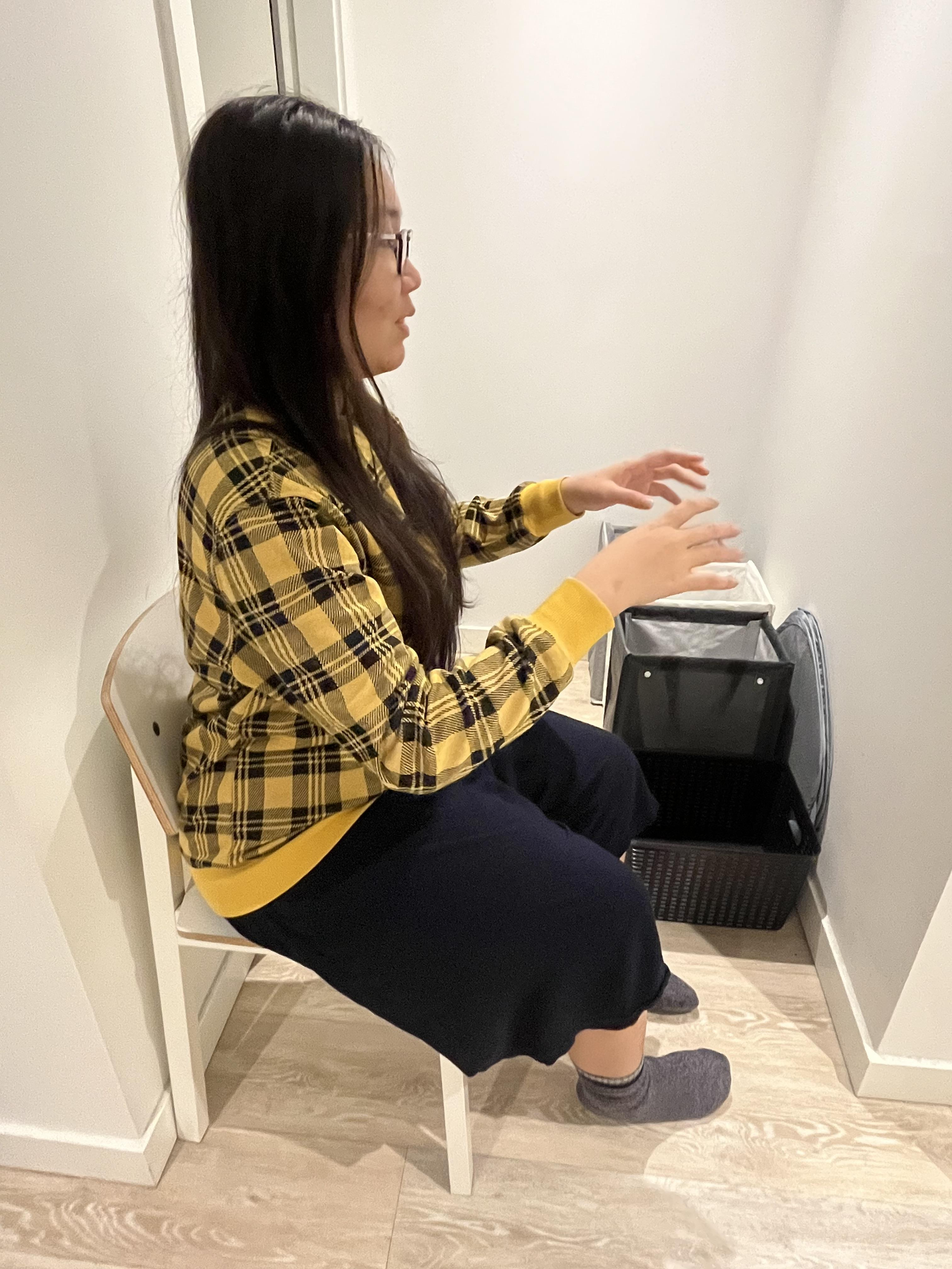GoodPosture: (172, 91, 741, 1123)
